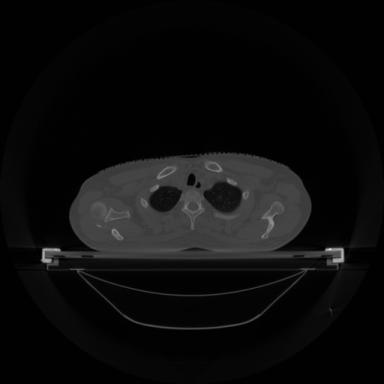body: (70, 153, 311, 252)
cord: (182, 190, 205, 230)
paru kanan: (149, 186, 182, 211)
paru kiri: (204, 182, 242, 212)
